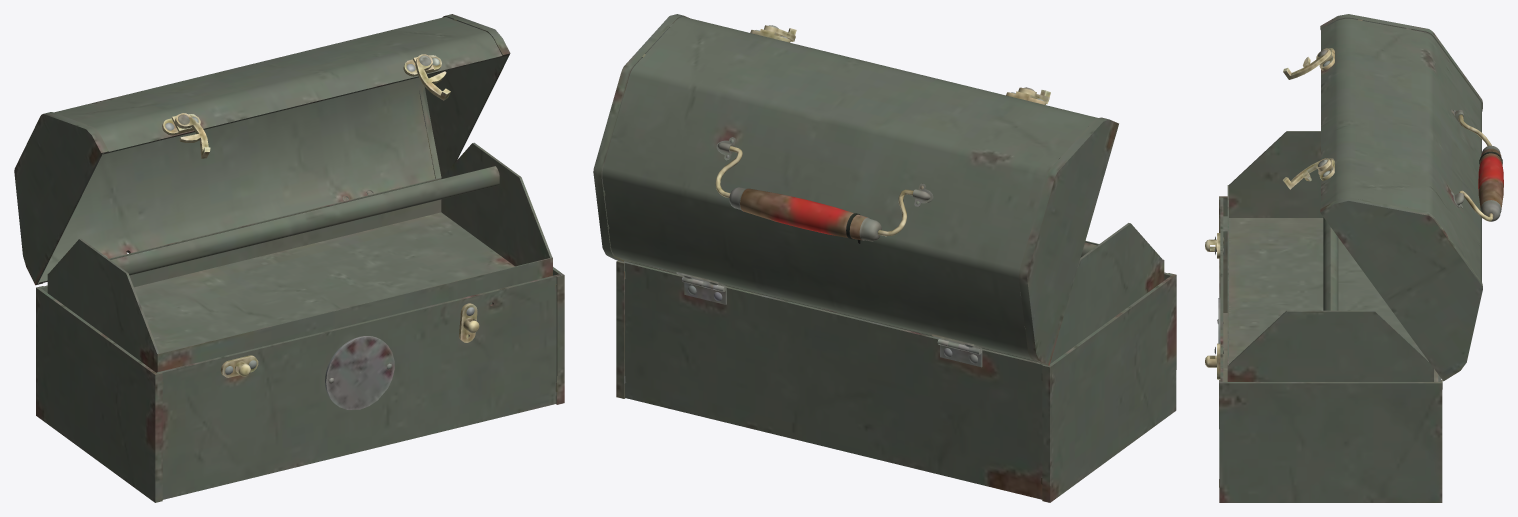
The model's file is metal_toolbox.glb.
3 renders of one model, left to right at view 1: azimuth 30°, elevation 25°; view 2: azimuth 150°, elevation 25°; view 3: azimuth 270°, elevation 25°, orthographic. The views are drawn at different scales.
Visible parts, largest first — view 1: metal_toolbox_lo, metal_toolbox; view 2: metal_toolbox, metal_toolbox_lo; view 3: metal_toolbox, metal_toolbox_lo.
Part boxes in pixels (x1,y1,x2,y2): metal_toolbox_lo: (36,19,564,499); metal_toolbox: (14,14,564,502); metal_toolbox: (593,14,1176,502); metal_toolbox_lo: (603,24,1176,502); metal_toolbox: (1205,14,1503,502); metal_toolbox_lo: (1208,19,1495,502).
Size of the model in its own units: 0.4 by 0.3047 by 0.2705.
1 material, 1 textured.
